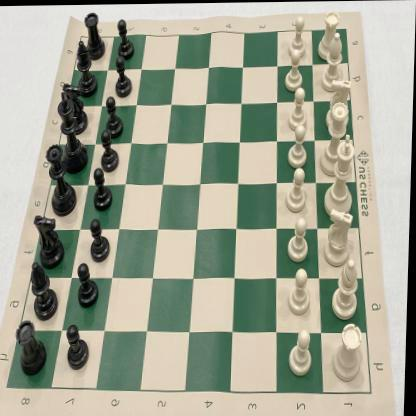black-bishop: (31, 260, 61, 318), (74, 38, 98, 98)
black-king: (55, 93, 90, 173)
black-knight: (32, 212, 68, 266), (60, 80, 90, 134)
black-pawn: (76, 260, 105, 310), (65, 322, 93, 372), (90, 216, 116, 262), (93, 166, 117, 210), (98, 129, 122, 173), (104, 94, 126, 138), (116, 17, 136, 61), (114, 54, 133, 98)
black-queen: (44, 140, 80, 217)
black-rook: (15, 319, 50, 376), (83, 6, 108, 62)
white-bishop: (332, 258, 363, 320), (321, 32, 346, 92)
white-king: (325, 132, 359, 219)
white-knight: (326, 207, 357, 266), (324, 78, 354, 129)
white-pawn: (289, 328, 319, 376), (290, 268, 316, 317), (286, 166, 310, 214), (288, 216, 312, 264), (286, 124, 310, 167), (285, 49, 306, 94), (290, 87, 311, 132), (288, 14, 309, 58)
white-queen: (321, 101, 351, 177)
white-rook: (334, 322, 368, 382), (317, 8, 342, 60)
